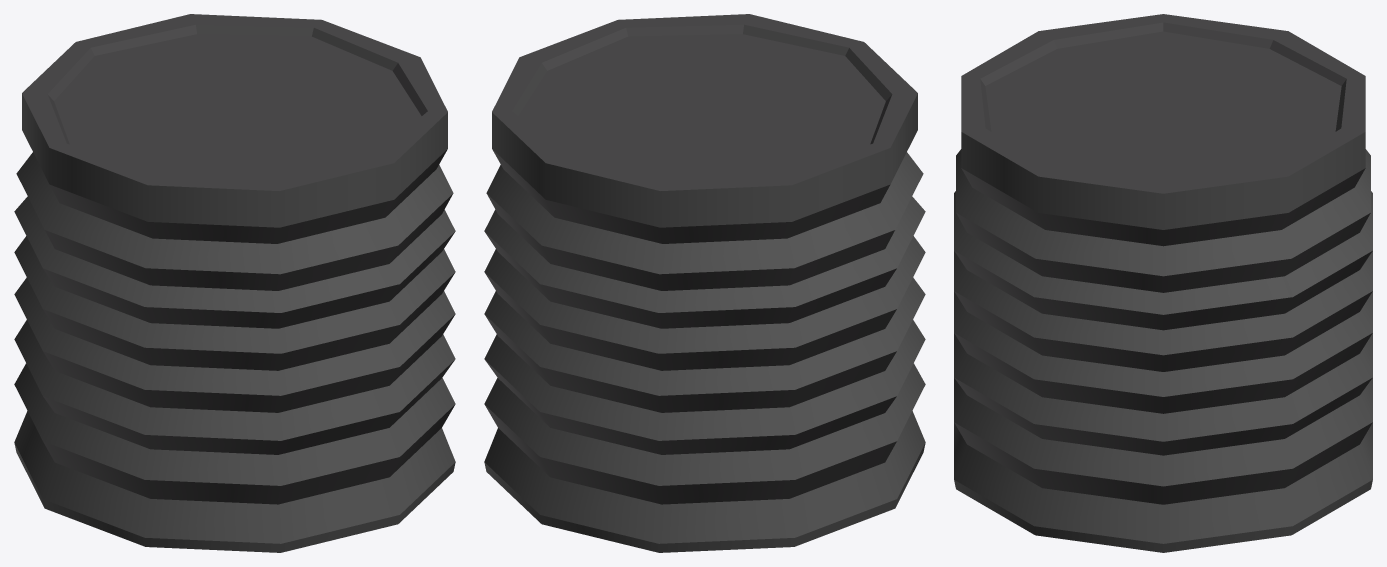
Rendered from TinCan.fbx.
The picture shows the model from 3 angles, left to right: view 1: azimuth 30°, elevation 25°; view 2: azimuth 150°, elevation 25°; view 3: azimuth 270°, elevation 25°; orthographic projection.
Parts seen in each view (by area): view 1: TinCan; view 2: TinCan; view 3: TinCan.
Boxes of the visible parts, x1,y1,x2,y2 form: TinCan: [14, 14, 455, 552]; TinCan: [484, 14, 925, 552]; TinCan: [954, 14, 1372, 552].
Size of the model in its own units: 2.02 by 1.8 by 1.92.
